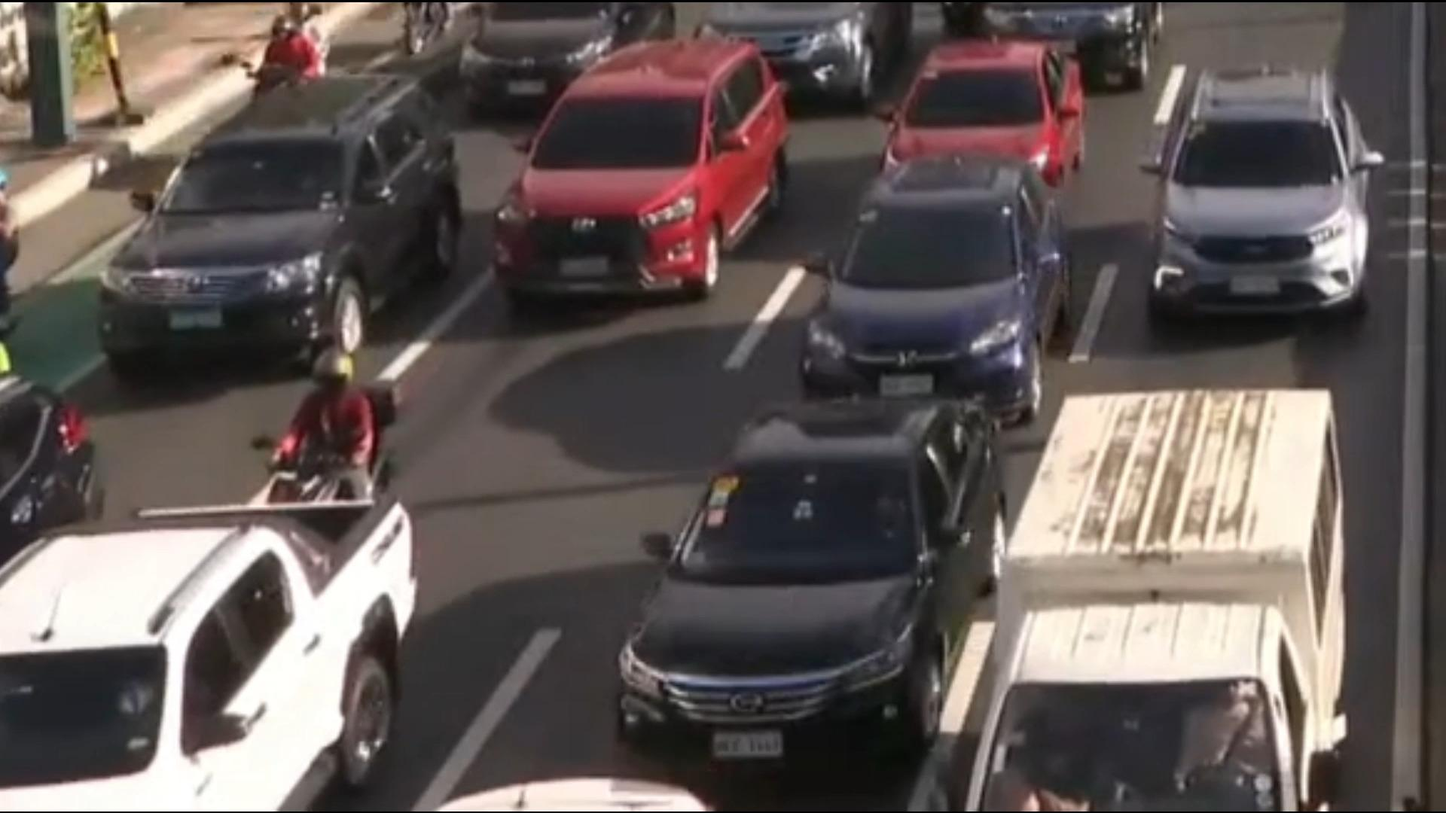Motorcycle: (218, 320, 411, 533), (247, 0, 332, 104)
Multicab: (906, 360, 1399, 813)
Pickup: (0, 473, 443, 813)
SUV: (606, 407, 1043, 780), (37, 66, 475, 393), (430, 36, 812, 352), (751, 142, 1083, 467), (1141, 32, 1420, 316)
Sedan: (840, 32, 1107, 200)
